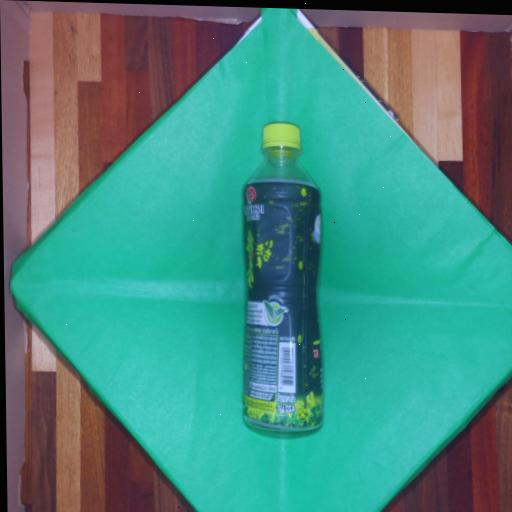bottle: (236, 121, 326, 440)
